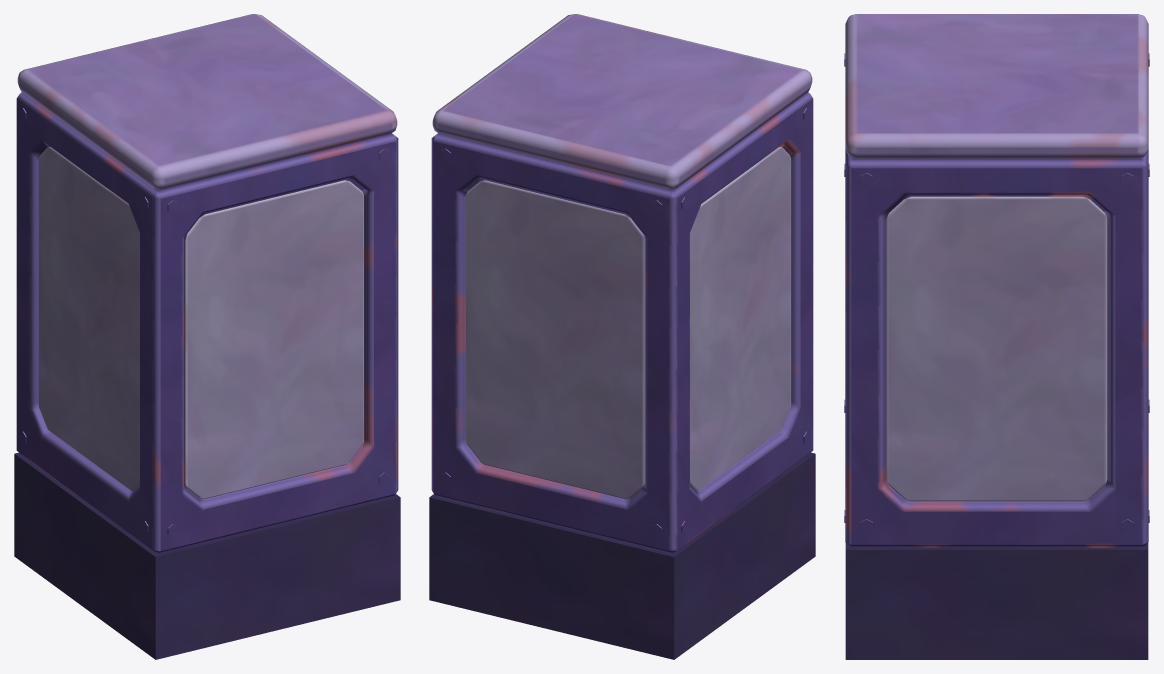
Rendered from bg_claude_block_pillar.glb.
The picture shows the model from 3 angles, left to right: view 1: azimuth 30°, elevation 25°; view 2: azimuth 150°, elevation 25°; view 3: azimuth 270°, elevation 25°; orthographic projection. The views are drawn at different scales.
Visible parts, largest first — view 1: wall; view 2: wall; view 3: wall.
Part boxes in pixels (x1,y1,x2,y2): wall: [14, 14, 400, 659]; wall: [429, 14, 815, 659]; wall: [844, 14, 1149, 659].
Bounding box in the file's own units: 1.01 × 1.9 × 1.01.
Materials: 1 (1 with a texture image).
